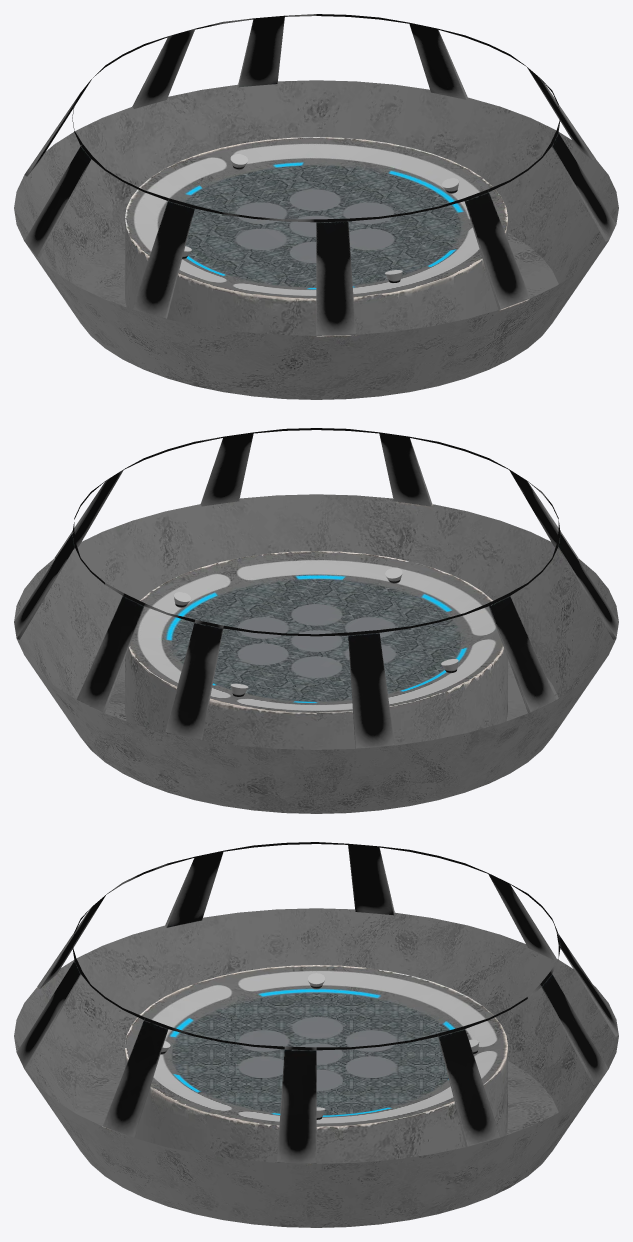
File: stage.glb
3 renders of one model, top to bottom at view 1: azimuth 30°, elevation 25°; view 2: azimuth 150°, elevation 25°; view 3: azimuth 270°, elevation 25°, orthographic.
Parts seen in each view (by area): view 1: Ground, Spot, Lights_group2_pCylinder2; view 2: Ground, Spot, Lights_group2_pCylinder2; view 3: Ground, Spot, Lights_group2_pCylinder2.
Part boxes in pixels (left/top/right/bottom): Ground: left=14, top=80, right=618, bottom=399; Spot: left=24, top=14, right=616, bottom=335; Lights_group2_pCylinder2: left=182, top=153, right=459, bottom=282; Ground: left=14, top=494, right=618, bottom=813; Spot: left=14, top=428, right=618, bottom=748; Lights_group2_pCylinder2: left=173, top=567, right=458, bottom=696; Ground: left=14, top=908, right=618, bottom=1227; Spot: left=16, top=842, right=618, bottom=1163; Lights_group2_pCylinder2: left=160, top=973, right=479, bottom=1119.
Bounding box in the file's own units: 0.5185 × 0.1699 × 0.5185.
Materials: 3 (3 with a texture image).
